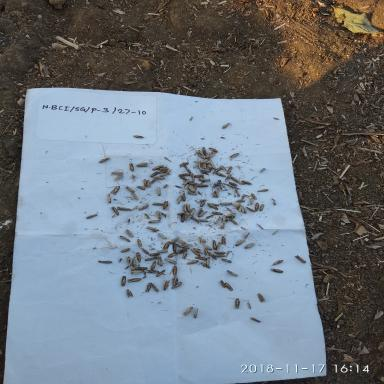pbw: (126, 276, 144, 284), (97, 258, 115, 266), (255, 292, 267, 304), (270, 258, 286, 266), (169, 281, 183, 290), (134, 160, 149, 168), (182, 306, 194, 316), (270, 268, 285, 276), (160, 280, 171, 290), (161, 240, 172, 250), (227, 269, 238, 279), (110, 186, 121, 196), (219, 122, 231, 131), (124, 185, 136, 194), (145, 225, 160, 232), (233, 297, 241, 310), (198, 198, 208, 208), (124, 288, 134, 298), (110, 206, 120, 216), (150, 283, 160, 293), (144, 282, 153, 293), (173, 195, 184, 204), (144, 255, 158, 262), (242, 243, 258, 249), (192, 307, 200, 319), (155, 269, 167, 277), (110, 170, 126, 176), (249, 316, 261, 324), (119, 274, 127, 286), (234, 238, 246, 246), (157, 256, 165, 268), (206, 202, 218, 210), (119, 235, 132, 242), (126, 255, 133, 268), (166, 252, 179, 259), (224, 215, 237, 222), (137, 204, 150, 211), (97, 157, 112, 163), (114, 206, 132, 211), (127, 162, 136, 172), (225, 282, 234, 292), (192, 160, 202, 169), (125, 228, 134, 238), (161, 200, 169, 211), (105, 193, 113, 204), (157, 232, 168, 240), (130, 270, 144, 276), (165, 258, 179, 264), (209, 251, 218, 260), (156, 210, 164, 220), (178, 213, 186, 223), (184, 213, 194, 221), (182, 165, 192, 173), (193, 246, 203, 254), (214, 216, 222, 226), (170, 236, 180, 244), (258, 203, 266, 213), (85, 213, 98, 219), (147, 269, 160, 275), (120, 247, 131, 254), (131, 256, 138, 267), (201, 262, 212, 269), (208, 146, 219, 153), (202, 243, 213, 250), (229, 152, 240, 159), (172, 264, 179, 275), (187, 259, 199, 265), (136, 238, 144, 247), (225, 212, 237, 218), (132, 192, 140, 201), (136, 265, 148, 271), (196, 211, 208, 217), (177, 161, 189, 167), (196, 255, 208, 261), (175, 247, 187, 253), (240, 193, 250, 200), (219, 201, 233, 206), (196, 218, 210, 223), (197, 206, 204, 216), (148, 252, 162, 257), (156, 186, 163, 196), (135, 252, 142, 262), (140, 247, 150, 254), (190, 249, 200, 256), (129, 205, 139, 212), (151, 165, 162, 171), (114, 175, 125, 181), (220, 235, 226, 246), (216, 172, 227, 178), (151, 202, 164, 207), (250, 192, 258, 200), (164, 156, 172, 164), (180, 204, 188, 212), (219, 280, 227, 288), (146, 220, 162, 224), (220, 164, 228, 172), (188, 185, 196, 193), (207, 152, 216, 159), (185, 203, 192, 212), (181, 251, 188, 260), (141, 178, 148, 187), (212, 167, 221, 174), (196, 236, 205, 243), (201, 146, 208, 155), (234, 198, 246, 203), (182, 243, 194, 248), (178, 174, 188, 180), (229, 202, 239, 208), (210, 201, 220, 207), (225, 183, 237, 188), (158, 165, 168, 171), (151, 260, 157, 270), (212, 240, 218, 250), (206, 256, 212, 266), (172, 276, 178, 286), (131, 264, 141, 270), (156, 248, 168, 253), (132, 135, 146, 139), (182, 178, 190, 185), (226, 166, 233, 174), (224, 174, 232, 181), (176, 244, 190, 248), (196, 152, 204, 159), (200, 162, 207, 170), (221, 258, 232, 263), (187, 191, 198, 196), (149, 172, 160, 177), (241, 180, 252, 185), (137, 186, 146, 192), (177, 238, 186, 244), (224, 206, 233, 212), (216, 242, 222, 251), (210, 189, 216, 198), (198, 178, 211, 182), (211, 211, 224, 215), (256, 188, 269, 192), (158, 169, 168, 174), (172, 242, 177, 252), (190, 206, 195, 216), (188, 181, 198, 186), (244, 231, 251, 238), (231, 219, 238, 226), (231, 176, 239, 182), (247, 206, 255, 212), (258, 167, 266, 173), (214, 250, 226, 254), (149, 178, 157, 184), (191, 216, 199, 222), (197, 184, 209, 188), (249, 197, 255, 205), (214, 254, 226, 258), (228, 181, 237, 186), (200, 169, 211, 173), (198, 149, 204, 156), (210, 162, 216, 169), (235, 202, 241, 209), (225, 250, 231, 257), (194, 174, 204, 178), (160, 172, 170, 176), (182, 192, 186, 202), (191, 174, 196, 182), (242, 206, 247, 214), (180, 173, 192, 176), (177, 212, 189, 215), (164, 169, 173, 173), (188, 116, 194, 122), (146, 179, 150, 188), (154, 176, 166, 179), (183, 184, 189, 190), (216, 188, 220, 197), (206, 163, 213, 168), (204, 248, 209, 255), (238, 205, 243, 212), (205, 160, 212, 165), (255, 203, 259, 211), (272, 116, 280, 120), (201, 159, 208, 163), (162, 184, 168, 188)
